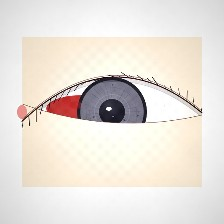hemorrhage_spot: (33, 69, 132, 148)
